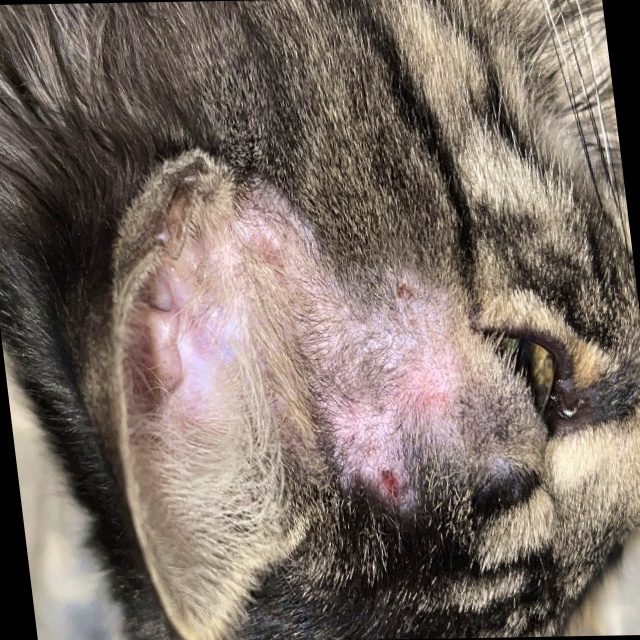ringworm: (302, 283, 473, 499)
